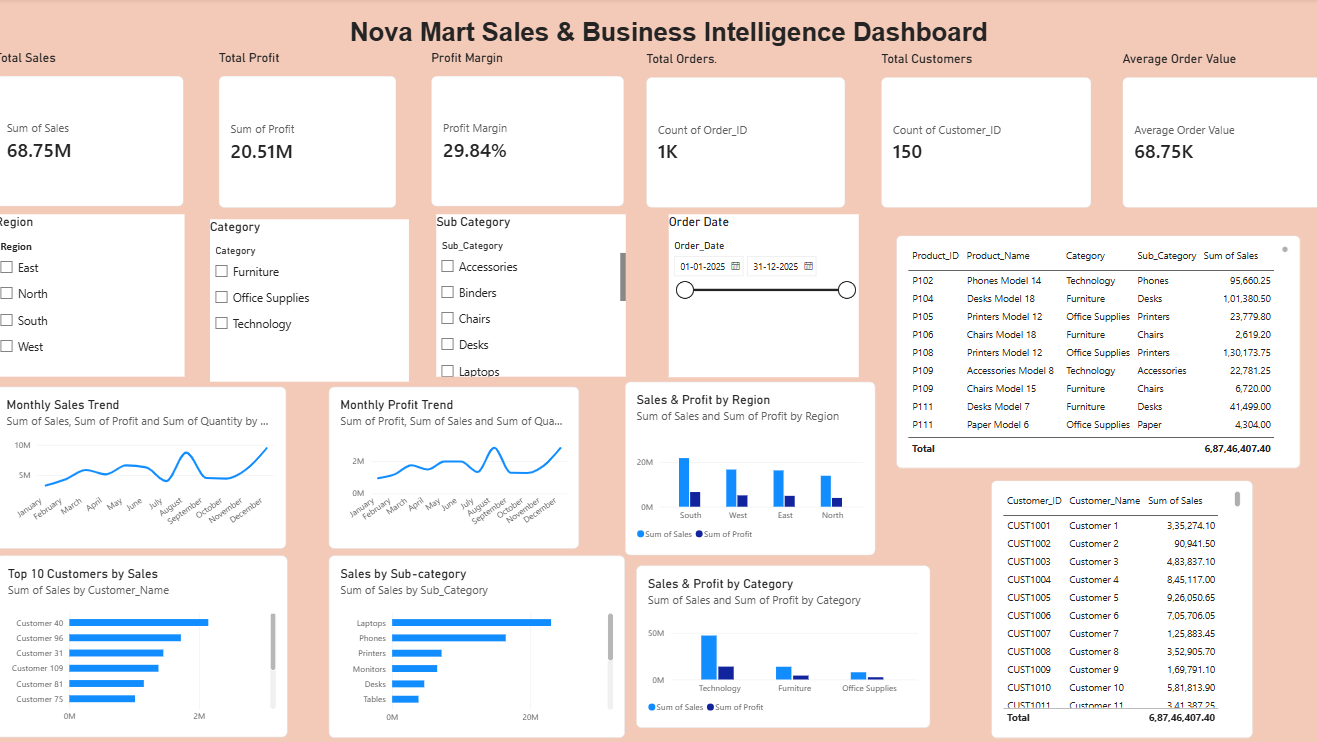

What the dashboard file says about the page in this screenshot:
{"tool":"powerbi","page":{"name":"Page 1","canvas":[1920,1080],"ordinal":0},"visuals":[{"type":"cardVisual","title":"Total Sales","fields":{"Data":["Sum(NovaMart_Sales_Cleaned.Sales)"]},"box":[0,76.2,273.8,226.4],"z":0},{"type":"cardVisual","title":"Total Profit","fields":{"Data":["Sum(NovaMart_Sales_Cleaned.Profit)"]},"box":[323.2,76.2,257.3,228.5],"z":1000},{"type":"cardVisual","title":"Profit Margin","fields":{"Data":["NovaMart_Sales_Cleaned.Profit Margin"]},"box":[631.9,76.2,279.9,226.4],"z":2000},{"type":"cardVisual","title":"Total Orders.","fields":{"Data":["Count(NovaMart_Sales_Cleaned.Order_ID)"]},"box":[942.7,78.2,288.2,226.4],"z":3000},{"type":"cardVisual","title":"Total Customers","fields":{"Data":["Count(NovaMart_Sales_Cleaned.Customer_ID)"]},"box":[1282.3,78.2,304.6,226.4],"z":4000},{"type":"cardVisual","title":"Average Order Value","fields":{"Data":["NovaMart_Sales_Cleaned.Average Order Value"]},"box":[1632.3,78.2,288.2,226.4],"z":5000},{"type":"lineChart","title":"Monthly Sales Trend","fields":{"Category":["NovaMart_Sales_Cleaned.Order_Date.Variation.Date Hierarchy.Month"],"Y":["Sum(NovaMart_Sales_Cleaned.Sales)"]},"box":[479.6,304.6,422,234.6],"z":6000},{"type":"clusteredColumnChart","title":"Sales & Profit by Category","fields":{"Category":["NovaMart_Sales_Cleaned.Category"],"Y":["Sum(NovaMart_Sales_Cleaned.Sales)","Sum(NovaMart_Sales_Cleaned.Profit)"]},"box":[479.6,547.5,422,259.3],"z":7000},{"type":"clusteredColumnChart","title":"Sales & Profit by Region","fields":{"Category":["NovaMart_Sales_Cleaned.Region"],"Y":["Sum(NovaMart_Sales_Cleaned.Sales)","Sum(NovaMart_Sales_Cleaned.Profit)"]},"box":[911.8,555.7,362.3,251.1],"z":8000},{"type":"clusteredBarChart","title":"Top 10 Customers by Sales","fields":{"Category":["NovaMart_Sales_Cleaned.Customer_Name"],"Y":["Sum(NovaMart_Sales_Cleaned.Sales)"]},"box":[479.6,817.2,422,263.5],"z":8001},{"type":"clusteredBarChart","title":"Sales by Sub-category","fields":{"Category":["NovaMart_Sales_Cleaned.Sub_Category"],"Y":["Sum(NovaMart_Sales_Cleaned.Sales)"]},"box":[911.8,817.2,370.5,263.5],"z":8002},{"type":"lineChart","title":"Monthly Profit Trend","fields":{"Category":["NovaMart_Sales_Cleaned.Order_Date.Variation.Date Hierarchy.Month"],"Y":["Sum(NovaMart_Sales_Cleaned.Profit)"]},"box":[911.8,304.6,362.3,234.6],"z":8003},{"type":"textbox","box":[31,0,280,280],"z":8004},{"type":"textbox","box":[393.1,26.8,1165,49.4],"z":8005}]}

Visuals, with their boxes in screenshot pixels (x1, y1, x2, y2), scaled from the page's 1920x1080 canvas onto the 1317x742 screenshot:
"Total Sales" cardVisual: [left=0, top=52, right=188, bottom=208]
"Total Profit" cardVisual: [left=222, top=52, right=398, bottom=209]
"Profit Margin" cardVisual: [left=433, top=52, right=625, bottom=208]
"Total Orders." cardVisual: [left=647, top=54, right=844, bottom=209]
"Total Customers" cardVisual: [left=880, top=54, right=1089, bottom=209]
"Average Order Value" cardVisual: [left=1120, top=54, right=1316, bottom=209]
"Monthly Sales Trend" lineChart: [left=329, top=209, right=618, bottom=370]
"Sales & Profit by Category" clusteredColumnChart: [left=329, top=376, right=618, bottom=554]
"Sales & Profit by Region" clusteredColumnChart: [left=625, top=382, right=874, bottom=554]
"Top 10 Customers by Sales" clusteredBarChart: [left=329, top=561, right=618, bottom=741]
"Sales by Sub-category" clusteredBarChart: [left=625, top=561, right=880, bottom=741]
"Monthly Profit Trend" lineChart: [left=625, top=209, right=874, bottom=370]
textbox: [left=21, top=0, right=213, bottom=192]
textbox: [left=270, top=18, right=1069, bottom=52]
